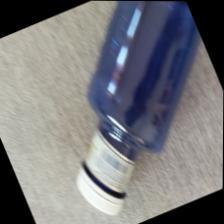plastic: (77, 2, 222, 223)
